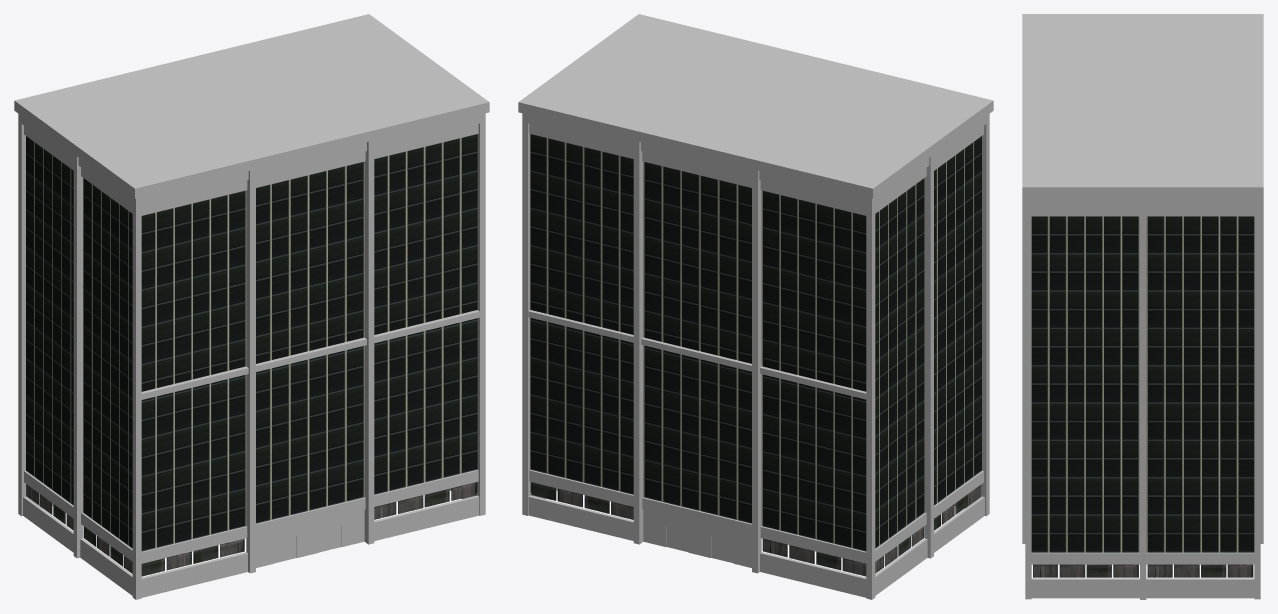
3 renders of one model, left to right at view 1: azimuth 30°, elevation 25°; view 2: azimuth 150°, elevation 25°; view 3: azimuth 270°, elevation 25°, orthographic.
Visible parts, largest first — view 1: BB-063; view 2: BB-063; view 3: BB-063.
Boxes of the visible parts, box(x1,y1,x2,y2) form: BB-063: box(14, 14, 489, 599); BB-063: box(518, 14, 993, 599); BB-063: box(1022, 14, 1263, 599).
Size of what is drawn, in the model's own units: 43.78 by 48.7 by 25.76.
